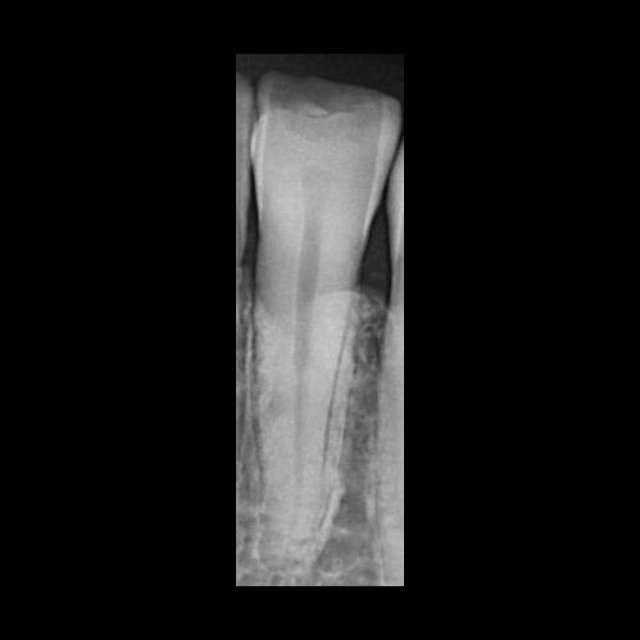tooth: (253, 70, 403, 569)
